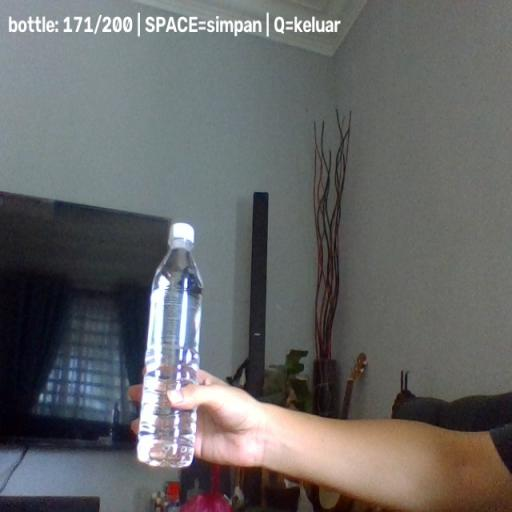Bottle: (137, 222, 202, 468)
